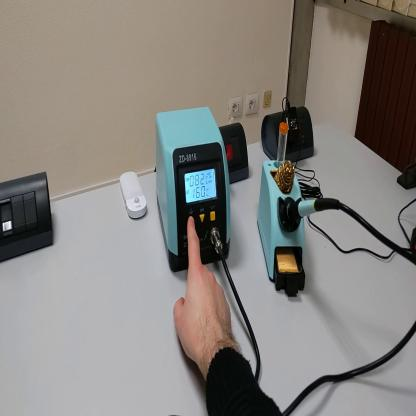electric screwdriver battery: (411, 227, 416, 263)
hand: (173, 216, 235, 369)
socket: (262, 110, 317, 166), (219, 123, 252, 188)
welder base: (256, 123, 309, 299)
welder probe tip: (286, 198, 342, 229)
welder station: (156, 107, 232, 273)
